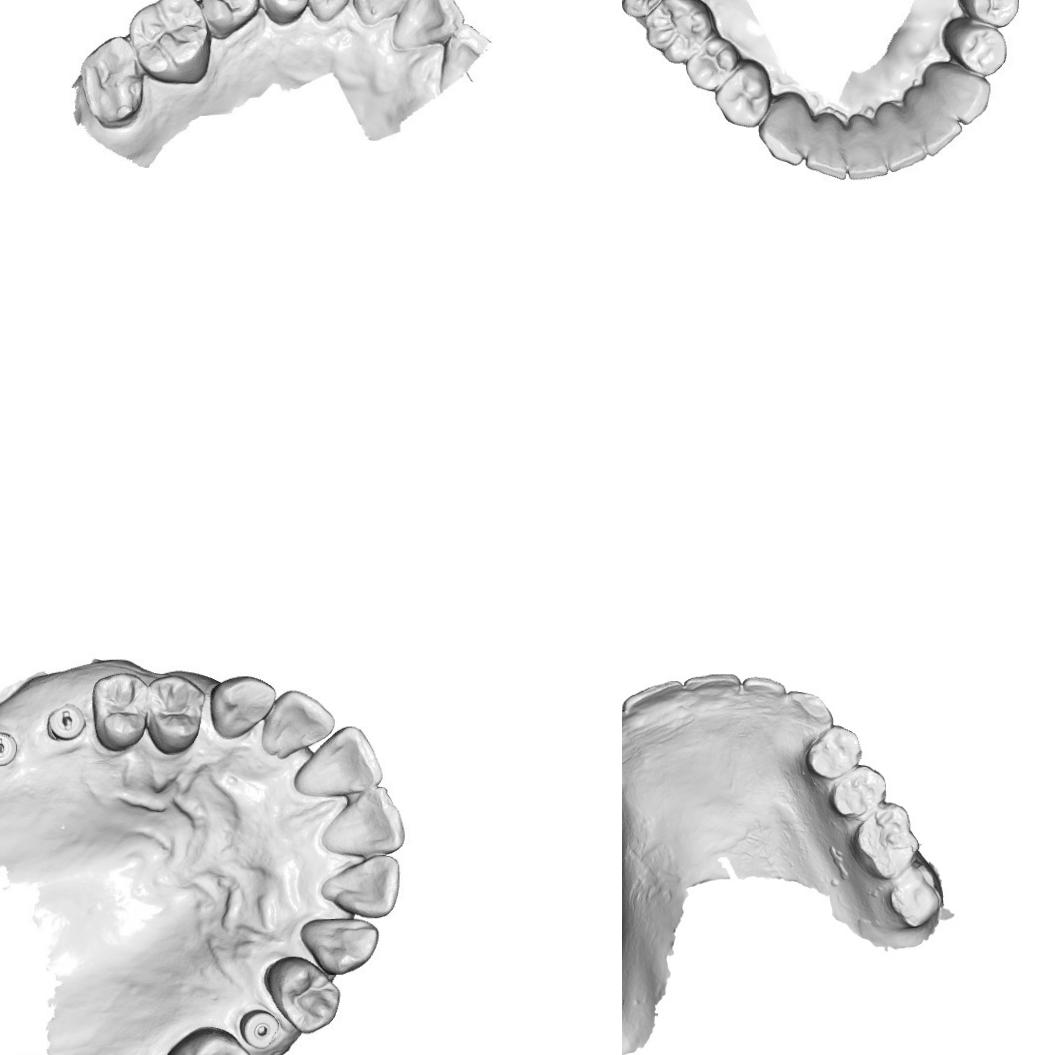canine: (302, 910, 378, 976), (207, 674, 278, 739), (924, 62, 992, 120), (763, 96, 811, 162), (782, 688, 834, 738), (304, 0, 359, 25)
implant: (236, 1007, 283, 1050)
implant_minus: (42, 698, 88, 744), (0, 722, 21, 770)
incisor: (291, 724, 384, 800), (318, 788, 408, 858), (261, 688, 337, 760), (320, 852, 402, 918), (390, 0, 461, 50), (909, 88, 961, 150), (876, 102, 925, 167), (622, 678, 684, 728), (805, 111, 852, 176), (679, 670, 742, 716), (844, 114, 888, 179), (740, 674, 788, 710), (354, 0, 409, 27)
molar: (127, 0, 209, 79), (849, 799, 922, 880), (82, 36, 142, 122), (881, 865, 946, 933), (643, 0, 709, 63), (160, 1023, 260, 1055)
premolar: (263, 952, 344, 1034), (144, 674, 206, 754), (92, 672, 150, 750), (825, 762, 889, 819), (802, 722, 865, 778), (717, 66, 766, 124), (951, 22, 1008, 71), (687, 39, 734, 91), (197, 0, 256, 39), (250, 0, 309, 20), (973, 0, 1020, 22)
